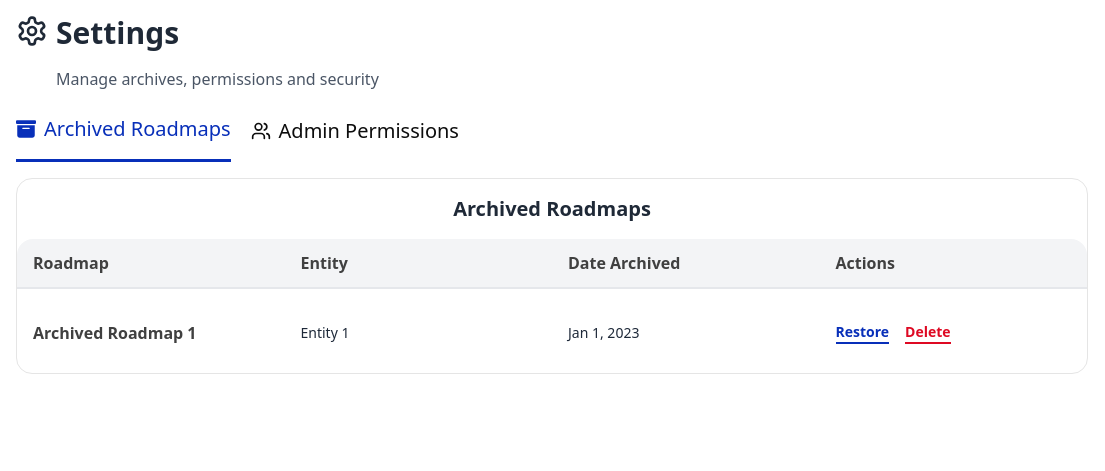
SettingsComponent › switches to admin tab and shows Add Admin button
Click the button "Admin Permissions".
click(355, 134)  # box [251, 108, 459, 160]
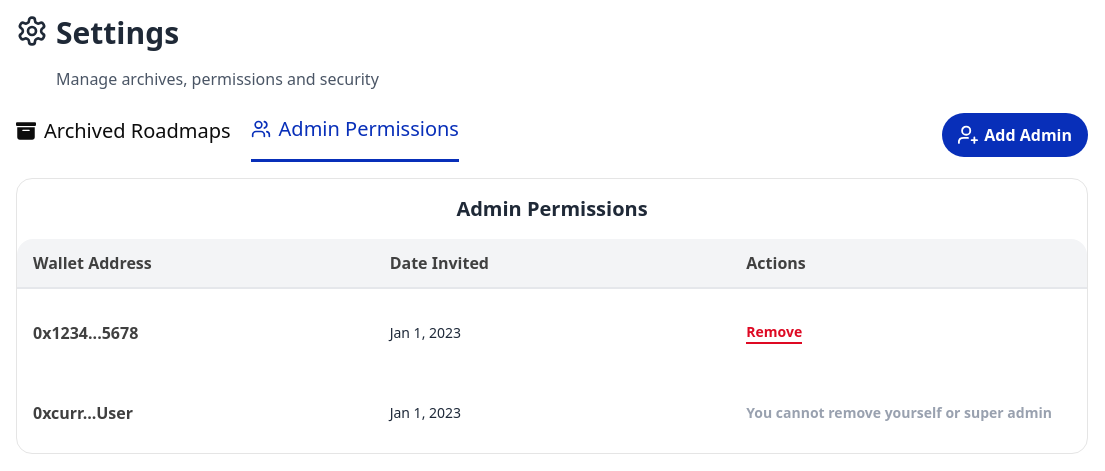
Result: the text "Add Admin" is shown at [984, 122, 1072, 146]
